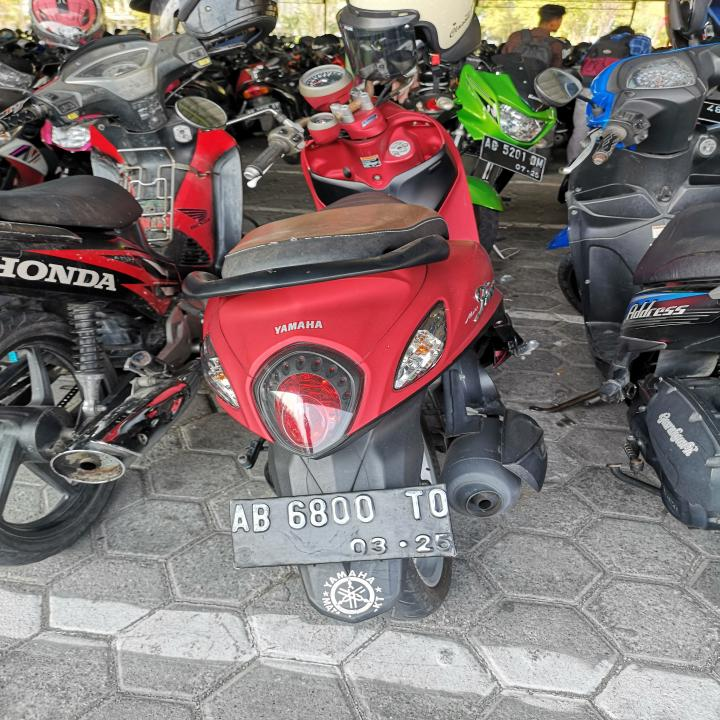plate: (227, 483, 457, 567), (479, 133, 548, 182)
